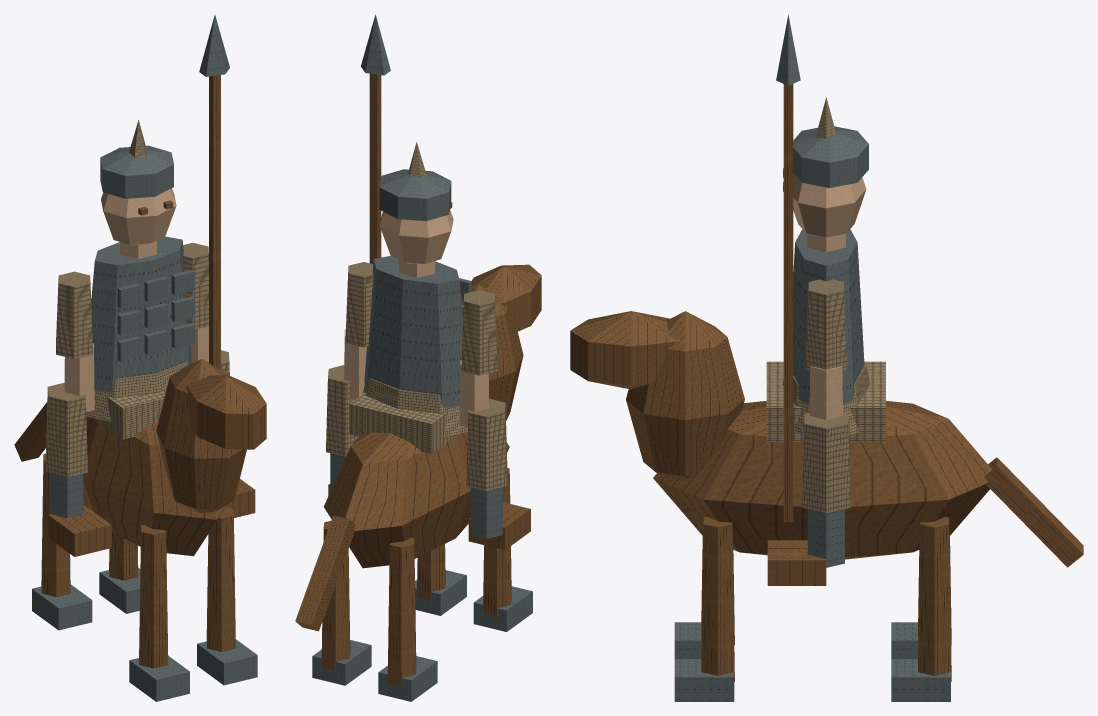
The model's file is unit-CAVALRY-lod0.glb.
3 views of the same model, side by side, from view 1: azimuth 30°, elevation 25°; view 2: azimuth 150°, elevation 25°; view 3: azimuth 270°, elevation 25° (orthographic). The views are drawn at different scales.
Bounding box in the file's own units: 0.218 × 0.705 × 0.4738.
1 material, 1 textured.
